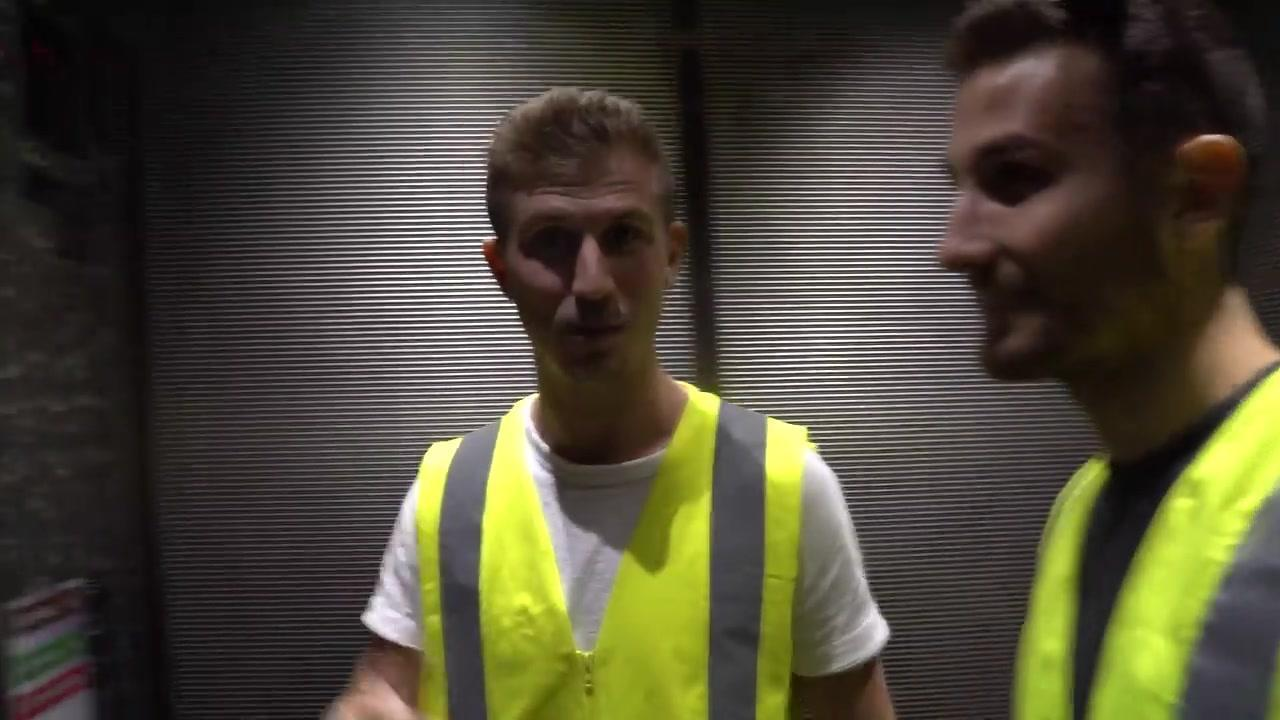vest: (414, 371, 812, 718), (1010, 359, 1279, 719)
